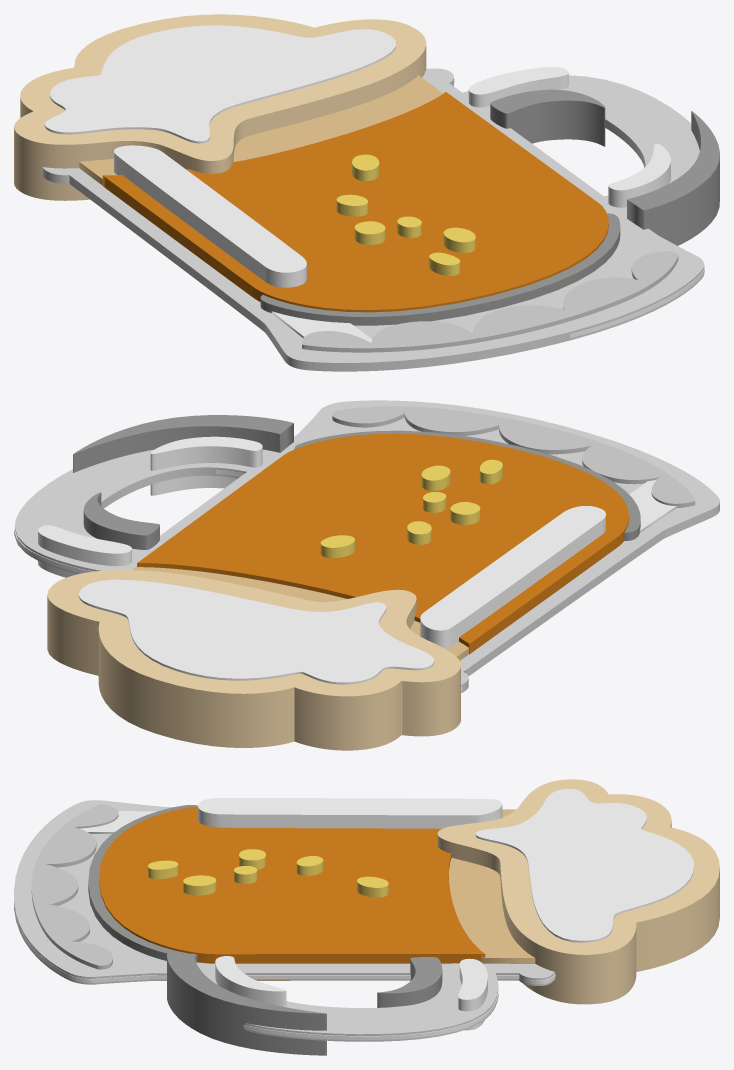
Rendered from emoji_u1f37a.glb.
The picture shows the model from 3 angles, top to bottom: view 1: azimuth 30°, elevation 25°; view 2: azimuth 150°, elevation 25°; view 3: azimuth 270°, elevation 25°; orthographic projection. The views are drawn at different scales.
Parts seen in each view (by area): view 1: emoji_u1f37a; view 2: emoji_u1f37a; view 3: emoji_u1f37a.
Part boxes in pixels (x1,y1,x2,y2): emoji_u1f37a: [14, 14, 719, 371]; emoji_u1f37a: [14, 400, 719, 750]; emoji_u1f37a: [14, 779, 719, 1055].
Bounding box in the file's own units: 0.0263 × 0.0028 × 0.0335.
